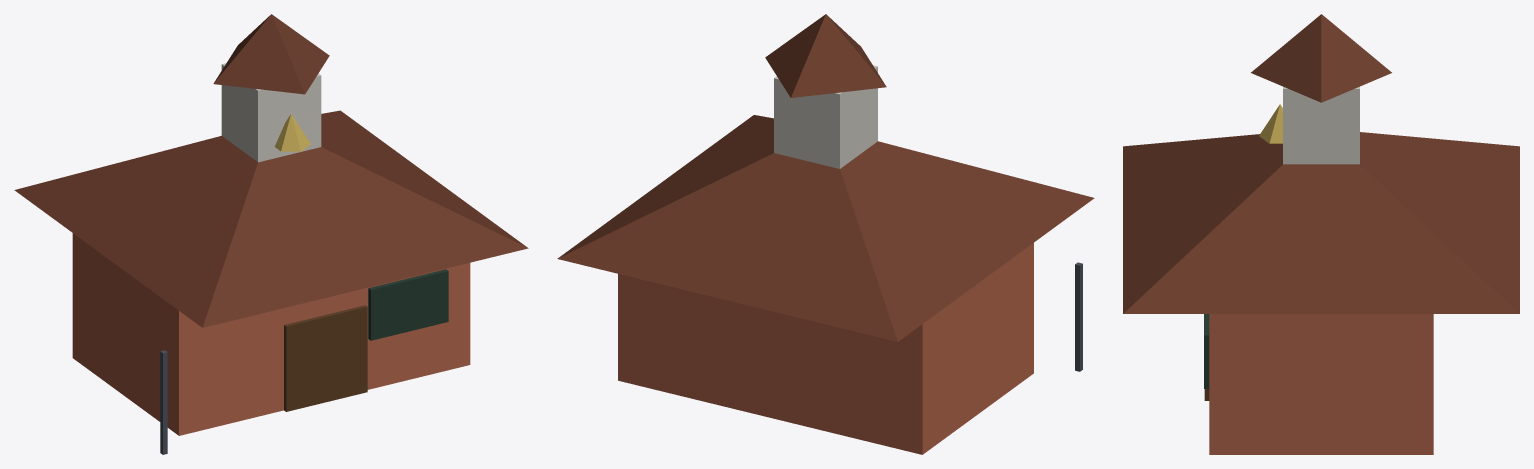
The model's file is school.glb.
3 renders of one model, left to right at view 1: azimuth 30°, elevation 25°; view 2: azimuth 150°, elevation 25°; view 3: azimuth 270°, elevation 25°, orthographic. The views are drawn at different scales.
Visible parts, largest first — view 1: school; view 2: school; view 3: school.
Part boxes in pixels (box(x1,y1,x2,y2)): school: box(14, 14, 528, 454); school: box(557, 14, 1094, 454); school: box(1123, 14, 1519, 454).
Size of the model in its own units: 0.3505 by 0.342 by 0.336.
